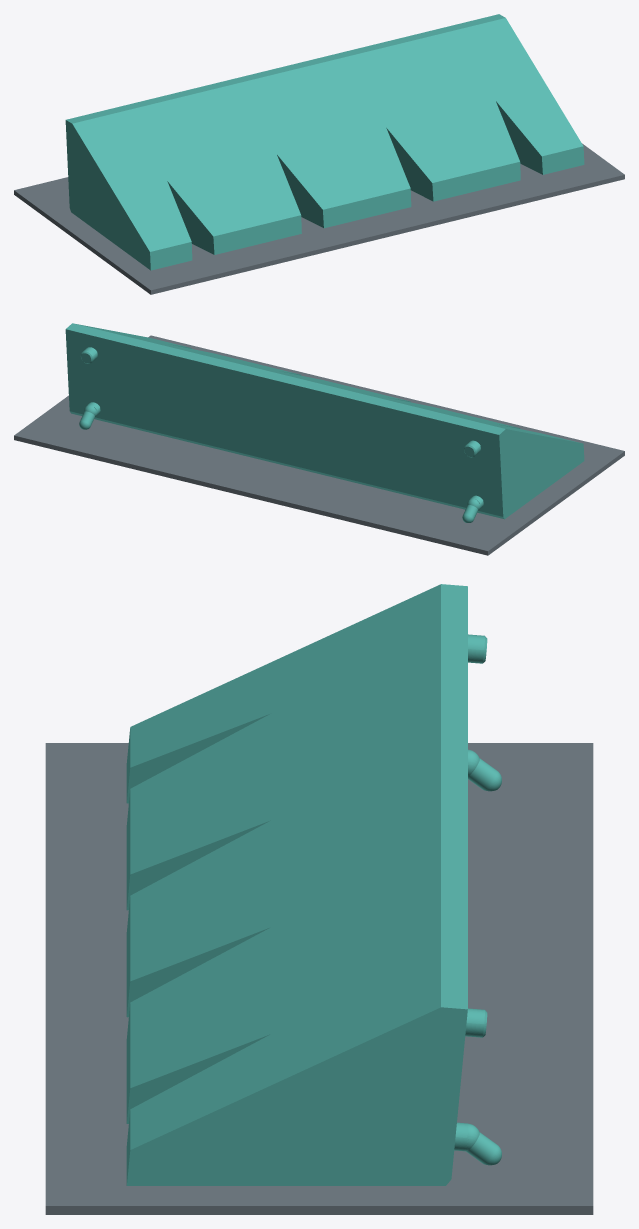
File: part-bd01-slope-e__v3__print-sloped-top.glb
3 views of the same model, one above another, from view 1: azimuth 30°, elevation 25°; view 2: azimuth 150°, elevation 25°; view 3: azimuth 270°, elevation 25° (orthographic). The views are drawn at different scales.
Visible parts, largest first — view 1: Actual holder mesh, Print bed; view 2: Actual holder mesh, Print bed; view 3: Actual holder mesh, Print bed.
Boxes of the visible parts, box(x1,y1,x2,y2) form: Actual holder mesh: box(65, 14, 584, 270); Print bed: box(14, 143, 624, 294); Actual holder mesh: box(65, 323, 584, 522); Print bed: box(14, 335, 624, 555); Actual holder mesh: box(126, 584, 501, 1185); Print bed: box(45, 743, 593, 1214).
Bounding box in the file's own units: 0.22 × 0.0416 × 0.11.
